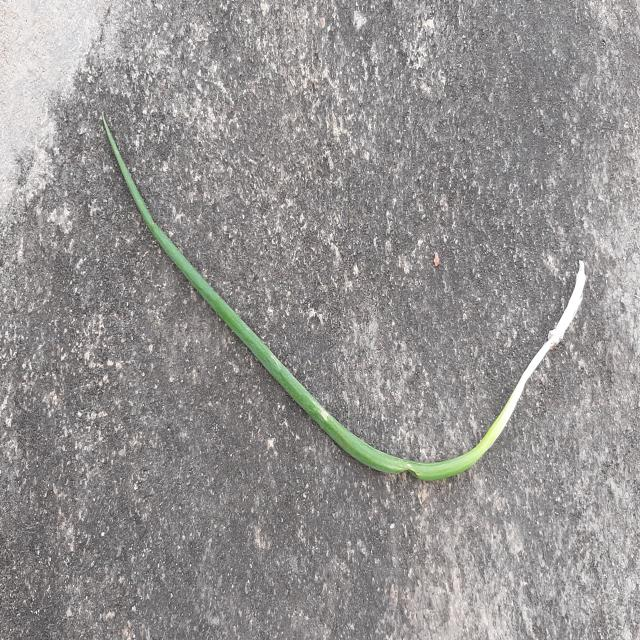onion: (102, 114, 586, 480)
